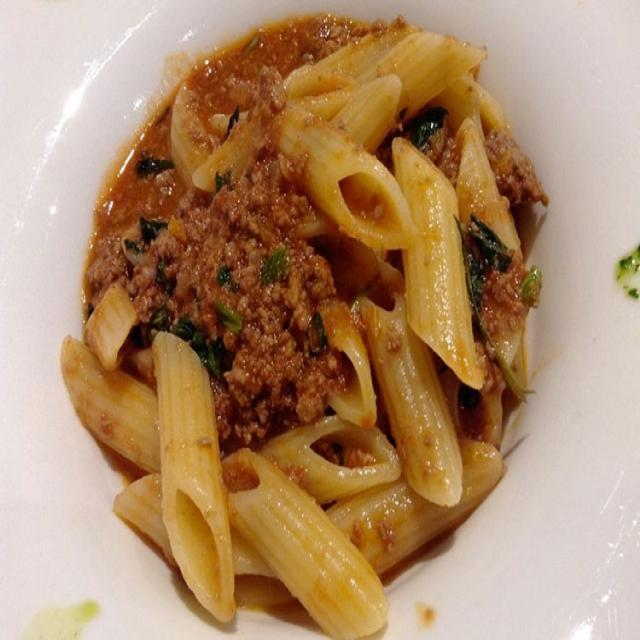Pasta al ragu: (96, 50, 546, 603)
